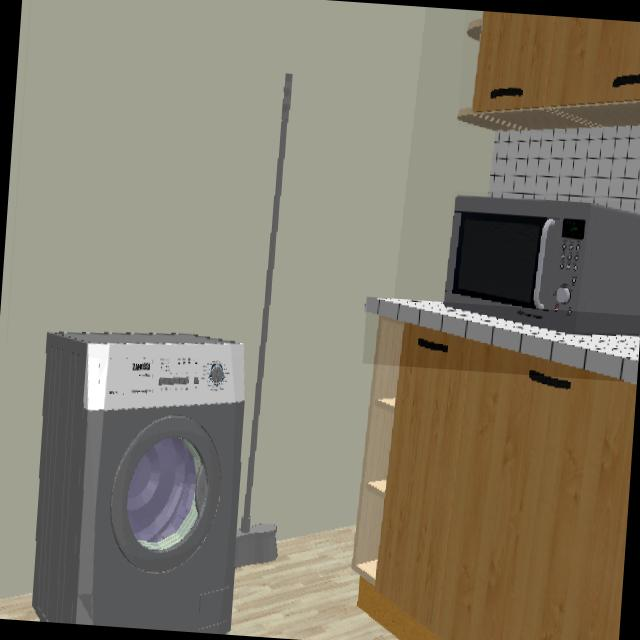cabinet: (354, 317, 636, 640), (458, 11, 640, 131)
countertop: (366, 300, 640, 381)
microwave: (444, 196, 640, 340)
